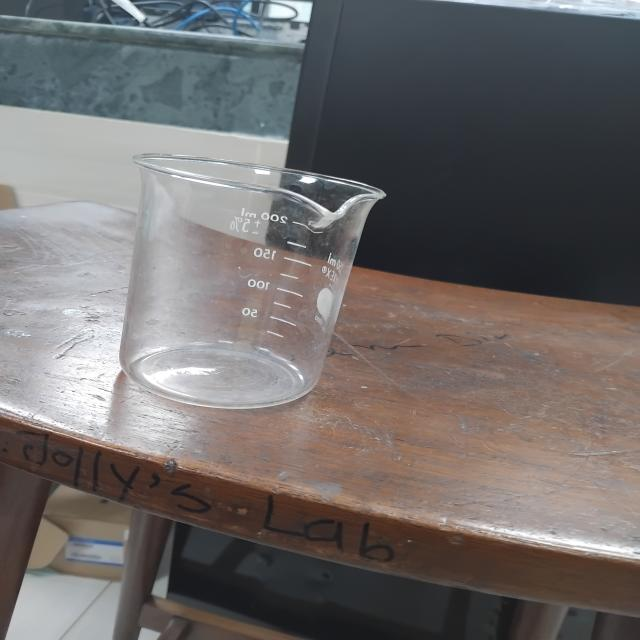Beaker: (109, 110, 400, 438)
